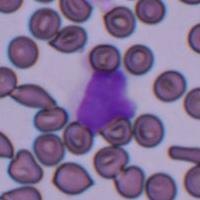M: (72, 68, 136, 136)
